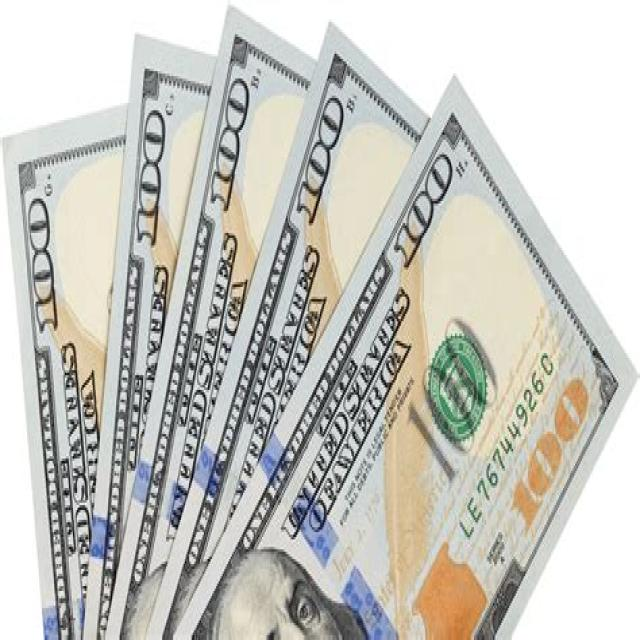Hundred: (173, 77, 638, 640), (143, 17, 431, 640), (109, 4, 319, 640), (84, 29, 222, 640), (0, 101, 128, 640)
